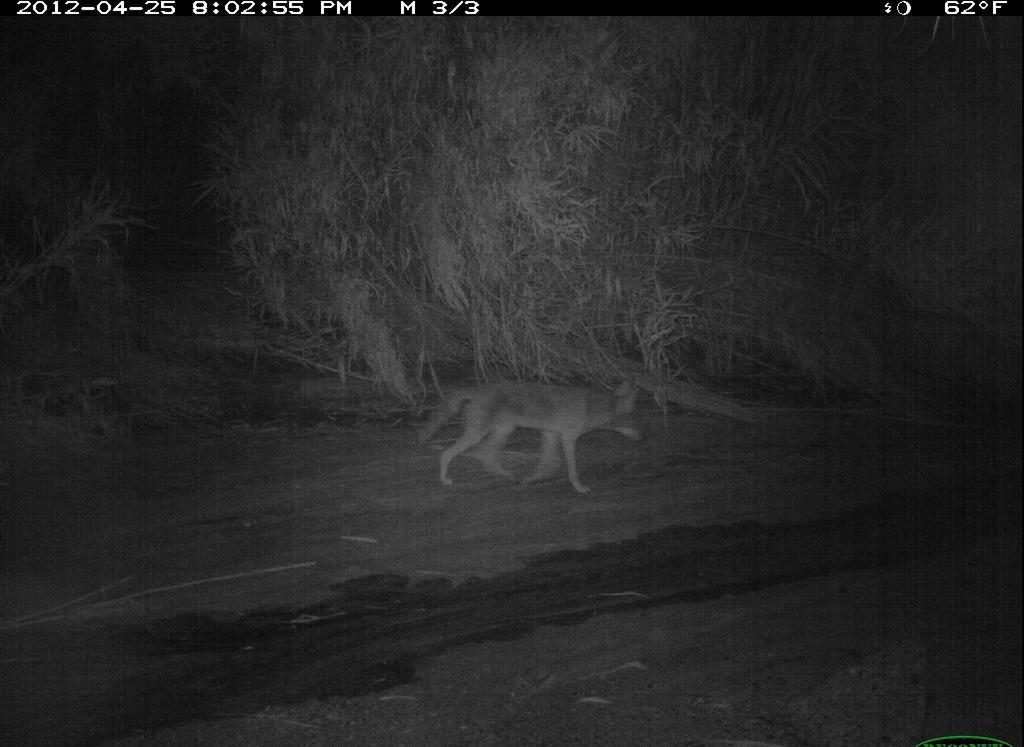coyote: (408, 368, 657, 504)
